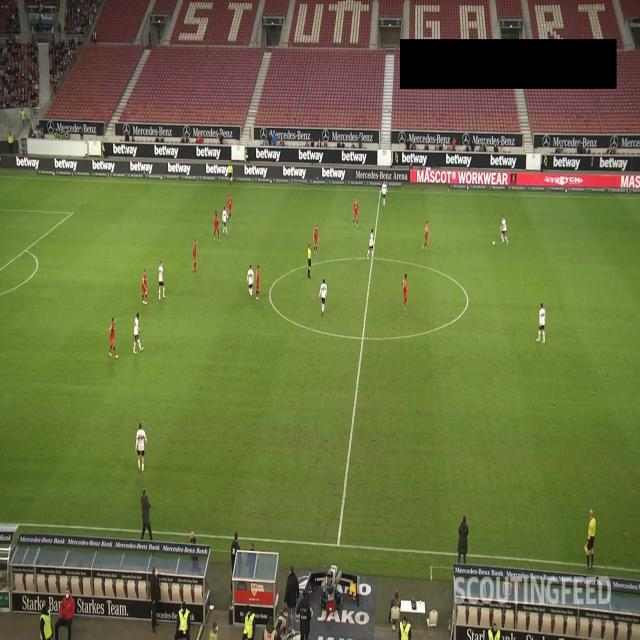ball: (492, 240, 496, 246)
